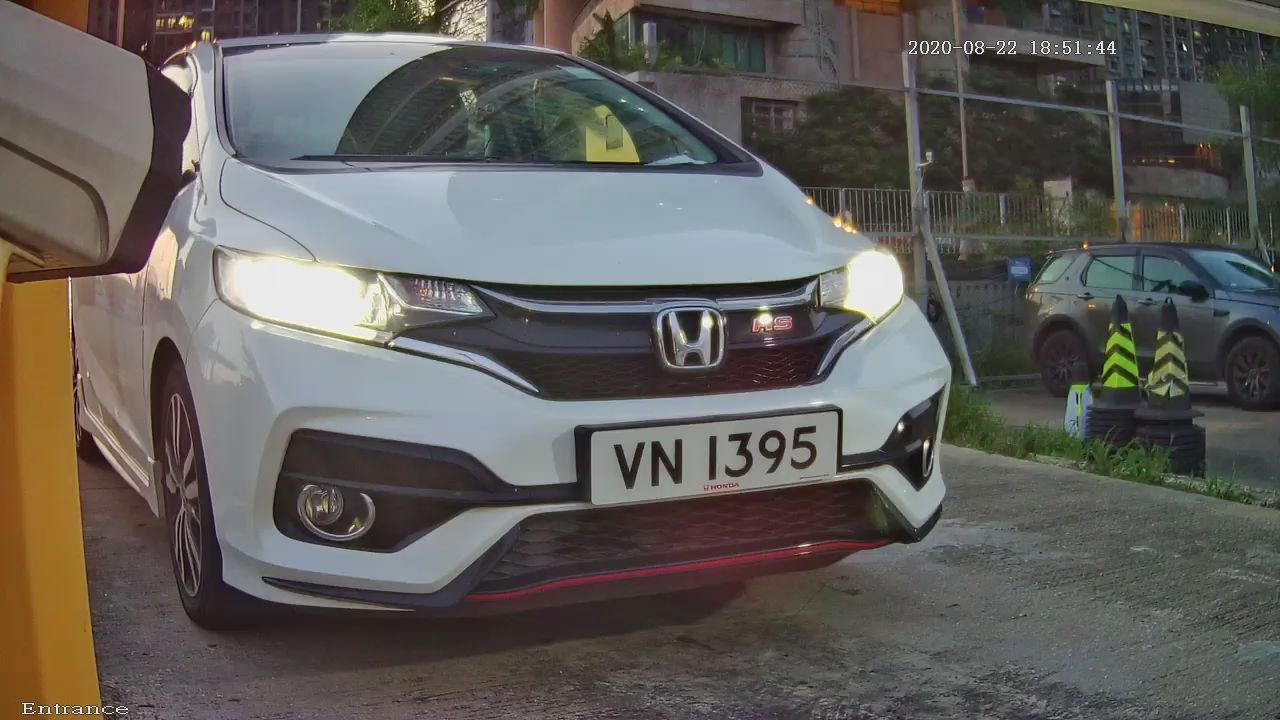Car: (37, 1, 1048, 665)
License Plate: (523, 372, 922, 549)
